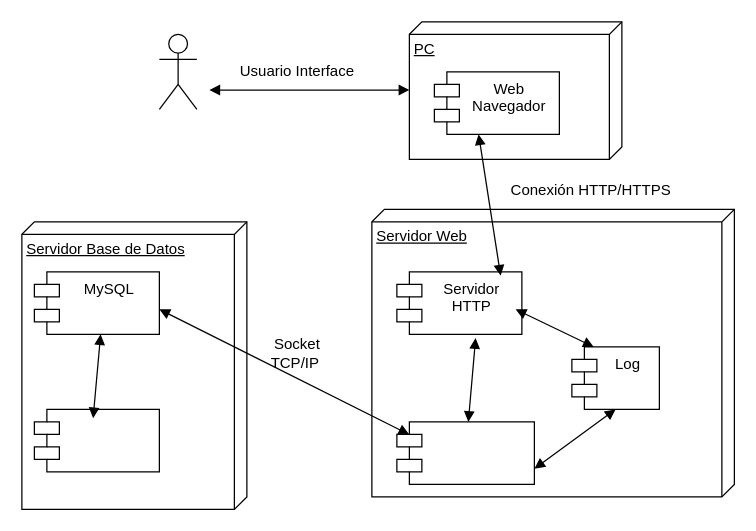
This 756x531 diagram has some shape labels left out. Each missing label, with the centre of its shape:
"Actor" goes at (x=177, y=71).
"Basede Datos Interface" goes at (x=465, y=452).
"Disco Almacenamiento" goes at (x=96, y=440).
